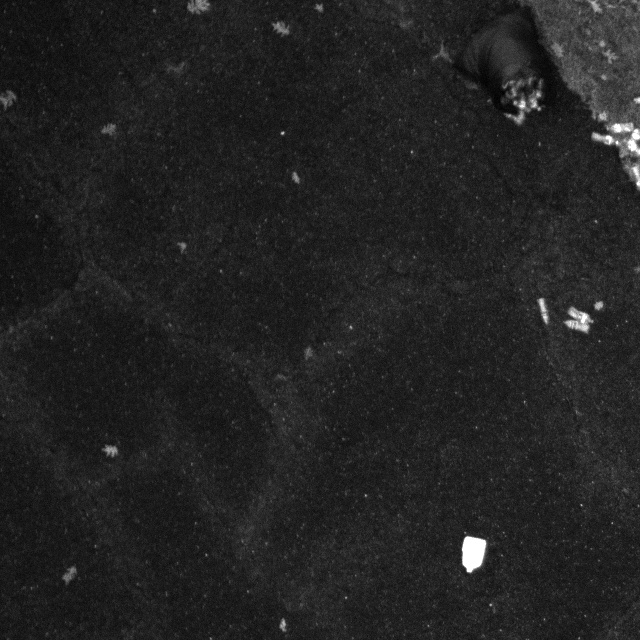bottle: (565, 300, 603, 324), (590, 132, 624, 149), (533, 297, 551, 325), (511, 98, 538, 114), (561, 322, 590, 334)
can: (456, 532, 489, 576)
